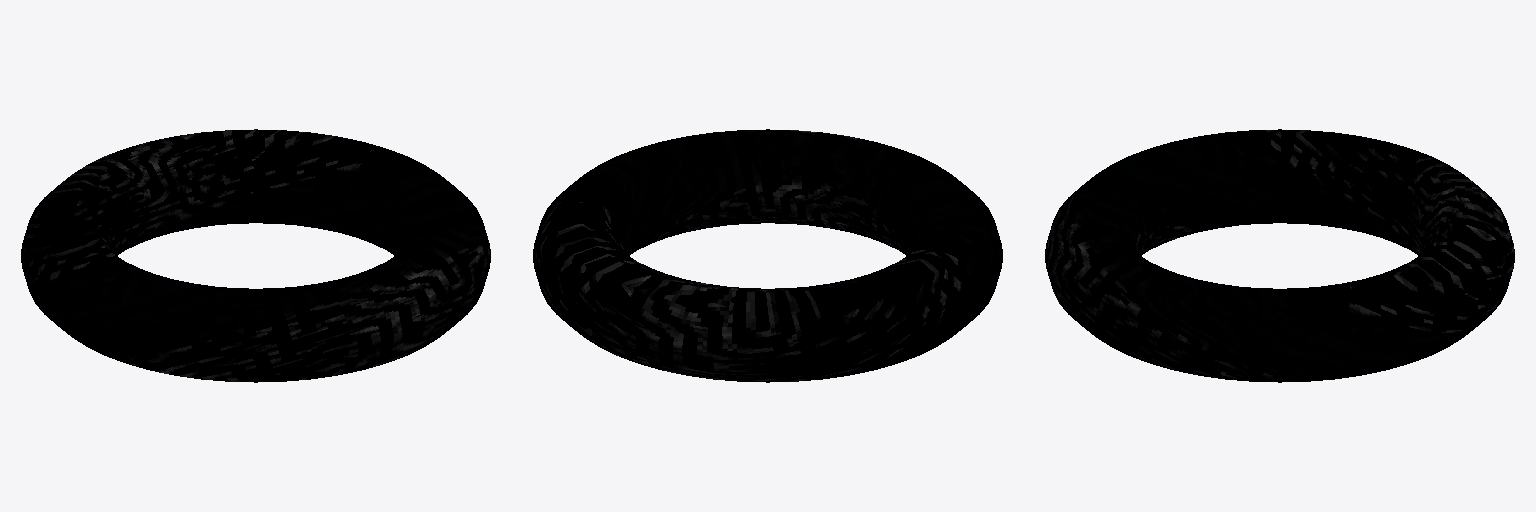
The picture shows the model from 3 angles: view 1: azimuth 30°, elevation 25°; view 2: azimuth 150°, elevation 25°; view 3: azimuth 270°, elevation 25°; orthographic projection.
Visible parts, largest first — view 1: Torus; view 2: Torus; view 3: Torus.
Boxes of the visible parts, box(x1,y1,x2,y2) form: Torus: box(21, 129, 490, 382); Torus: box(533, 129, 1002, 382); Torus: box(1045, 129, 1514, 382).
Bounding box in the file's own units: 2.5 × 0.5 × 2.5.
Materials: 1 (1 with a texture image).